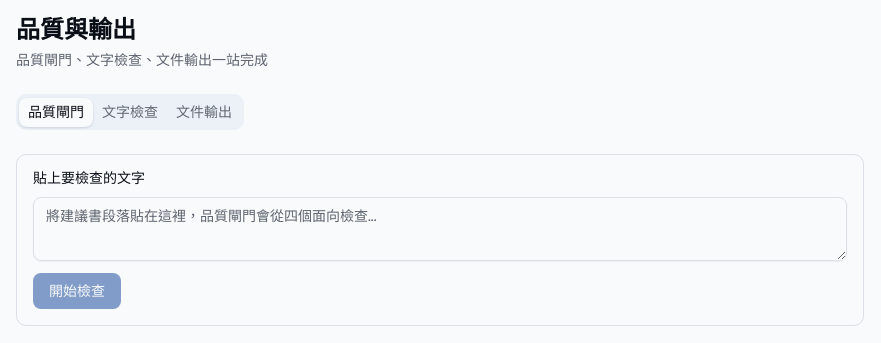
Scenario: QualityGatePage — 表單互動 › 輸入文字後「開始檢查」按鈕 enabled
In the text box: (440, 229) [33, 197, 847, 261], type "這是一段測試文字"
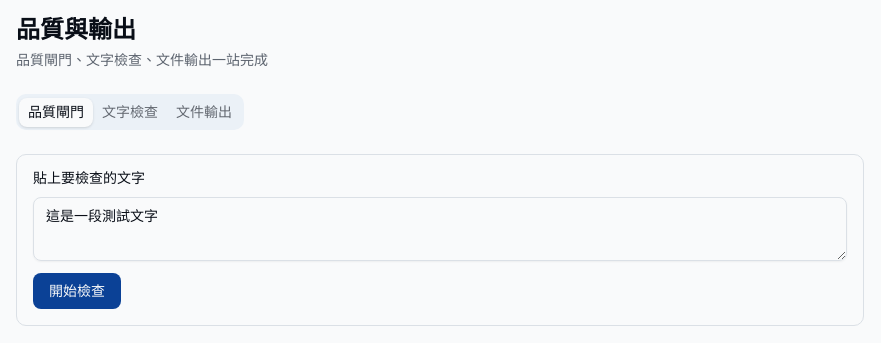
Now the button "開始檢查" is enabled, box [33, 273, 121, 309]
